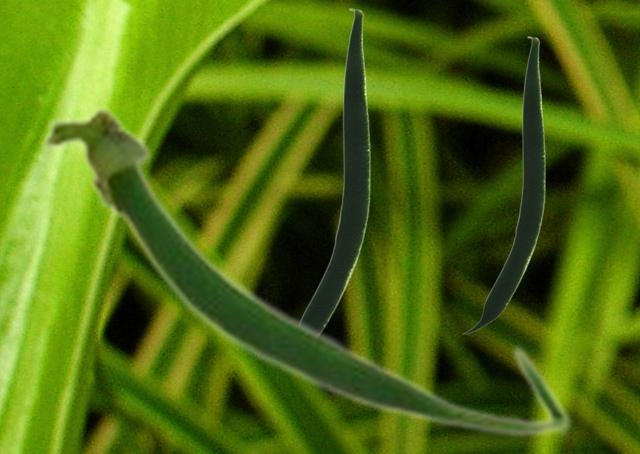french_bean: (38, 101, 573, 439), (462, 36, 544, 333), (301, 8, 369, 329)
